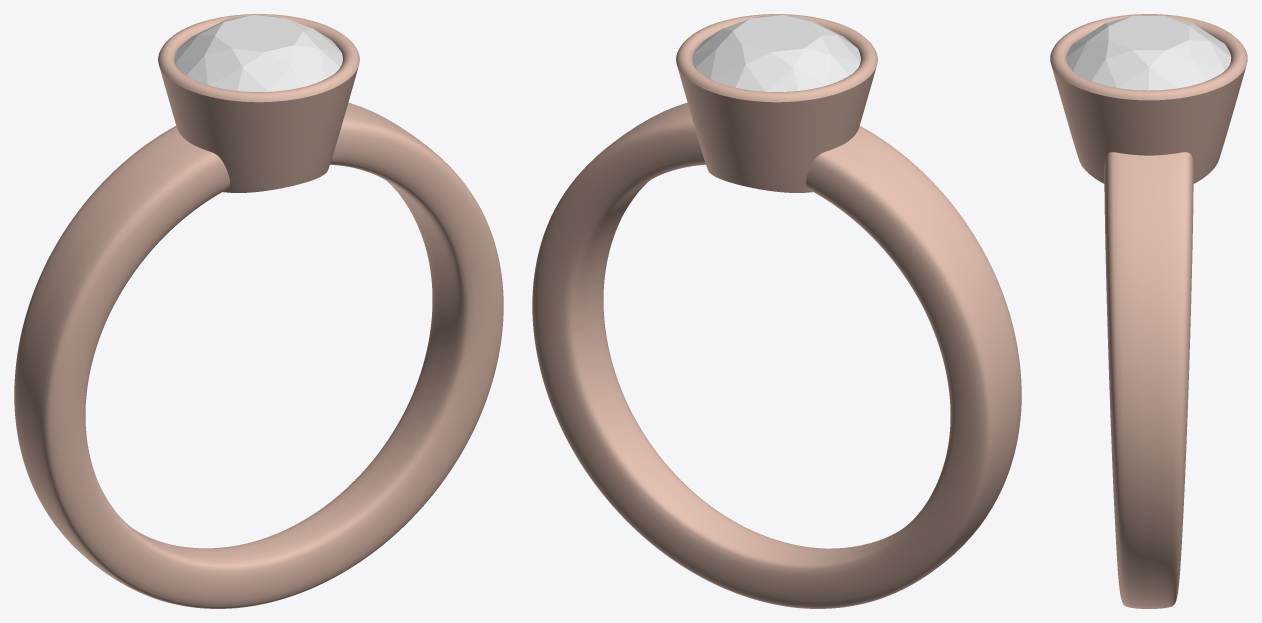
Rendered from diamond-round-rosegold-bezelset-straighttaperedband-nosidestones.glb.
3 renders of one model, left to right at view 1: azimuth 30°, elevation 25°; view 2: azimuth 150°, elevation 25°; view 3: azimuth 270°, elevation 25°, orthographic. The views are drawn at different scales.
Parts seen in each view (by area): view 1: metal, stone; view 2: metal, stone; view 3: metal, stone.
Boxes of the visible parts, box(x1,y1,x2,y2) form: metal: box(14, 14, 503, 608); stone: box(175, 15, 342, 91); metal: box(532, 14, 1021, 608); stone: box(693, 15, 860, 91); metal: box(1050, 14, 1247, 608); stone: box(1066, 15, 1231, 90).
Bounding box in the file's own units: 20.51 × 23.81 × 7.74.
